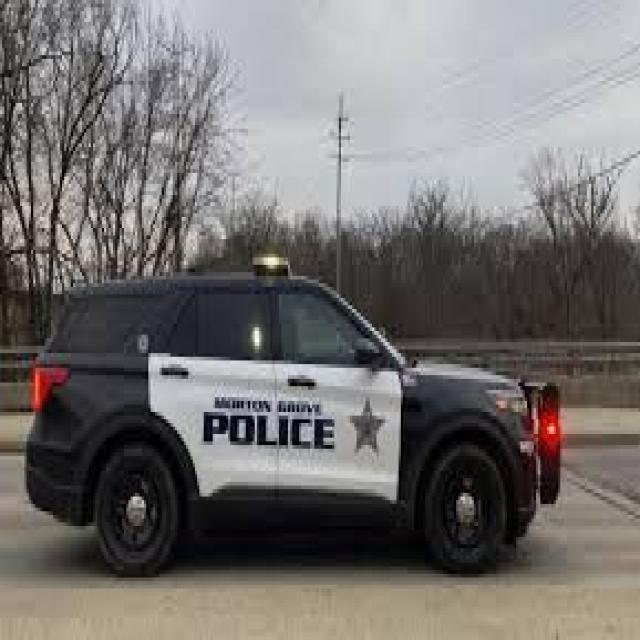cop: (24, 254, 565, 578)
